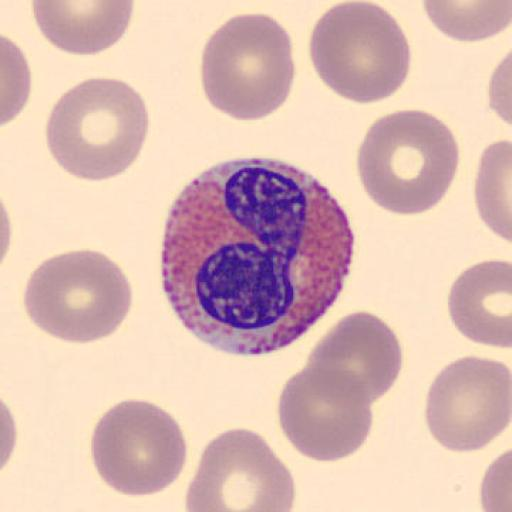RBC: (356, 106, 460, 218), (45, 76, 151, 182), (21, 247, 134, 345), (306, 1, 412, 105), (199, 11, 296, 122), (89, 398, 190, 498), (276, 361, 374, 463), (184, 426, 298, 512), (304, 310, 404, 406), (424, 354, 510, 454), (446, 257, 512, 349), (29, 0, 136, 56), (473, 136, 512, 246), (421, 0, 512, 42), (1, 32, 32, 128), (478, 445, 512, 512), (488, 45, 512, 131), (0, 395, 18, 474), (0, 191, 13, 272)
WBC: (159, 157, 356, 358)
